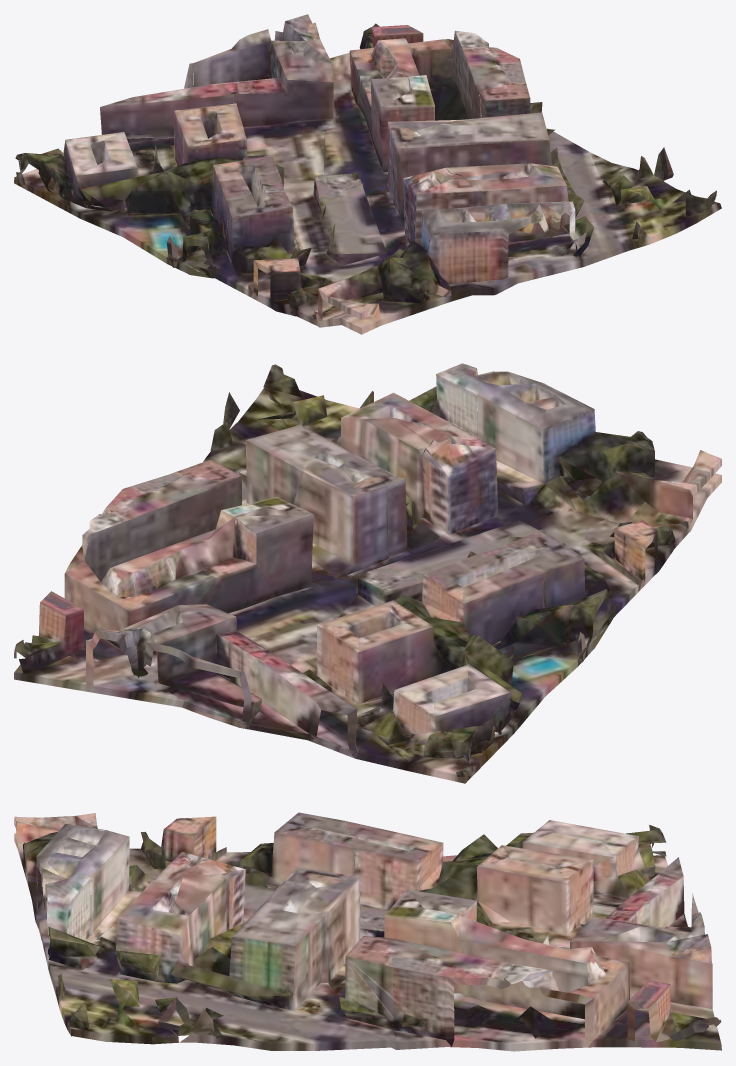
3 renders of one model, top to bottom at view 1: azimuth 30°, elevation 25°; view 2: azimuth 150°, elevation 25°; view 3: azimuth 270°, elevation 25°, orthographic. The views are drawn at different scales.
Parts seen in each view (by area): view 1: Mesh_0; view 2: Mesh_0; view 3: Mesh_0.
Part boxes in pixels (x1,y1,x2,y2): Mesh_0: [14, 14, 721, 334]; Mesh_0: [14, 363, 721, 783]; Mesh_0: [14, 812, 721, 1051].
Bounding box in the file's own units: 268 × 65.76 × 330.
Materials: 2 (2 with a texture image).
